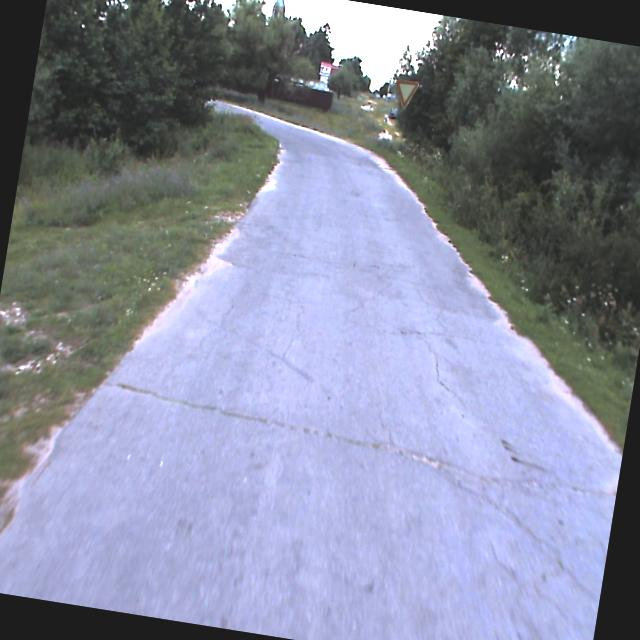road: (0, 111, 622, 640)
